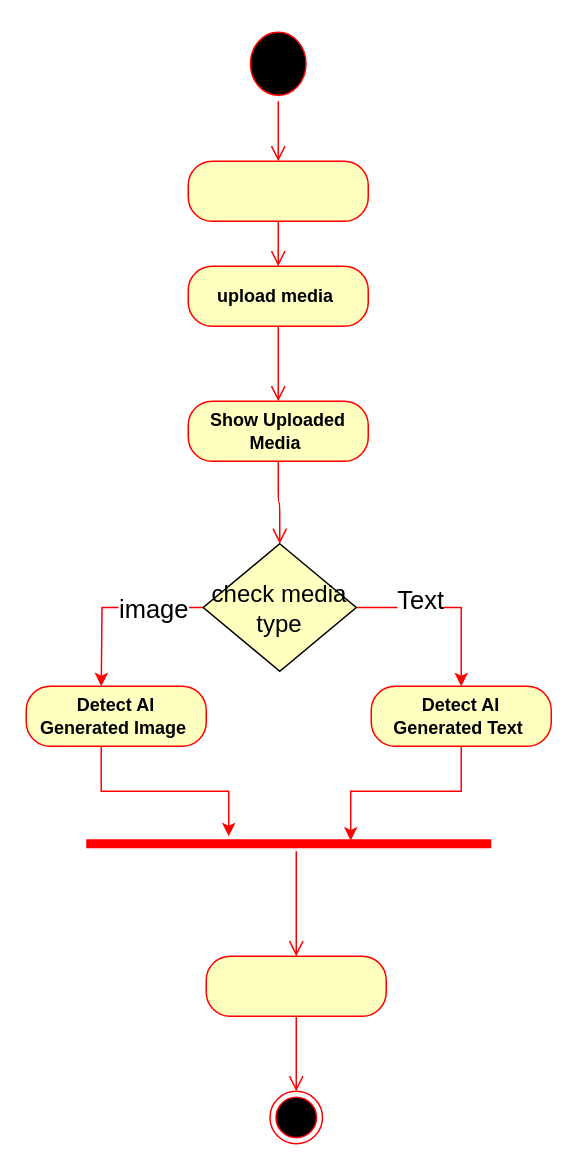
Image size: 578x1170. Some labels were removed from this diagram. The shapes that lost their labels are listed below. From the top down, each one's centre as x and y in pixels, then its label:
At (x=277, y=190): "select media type".
At (x=295, y=985): "Show Result".
